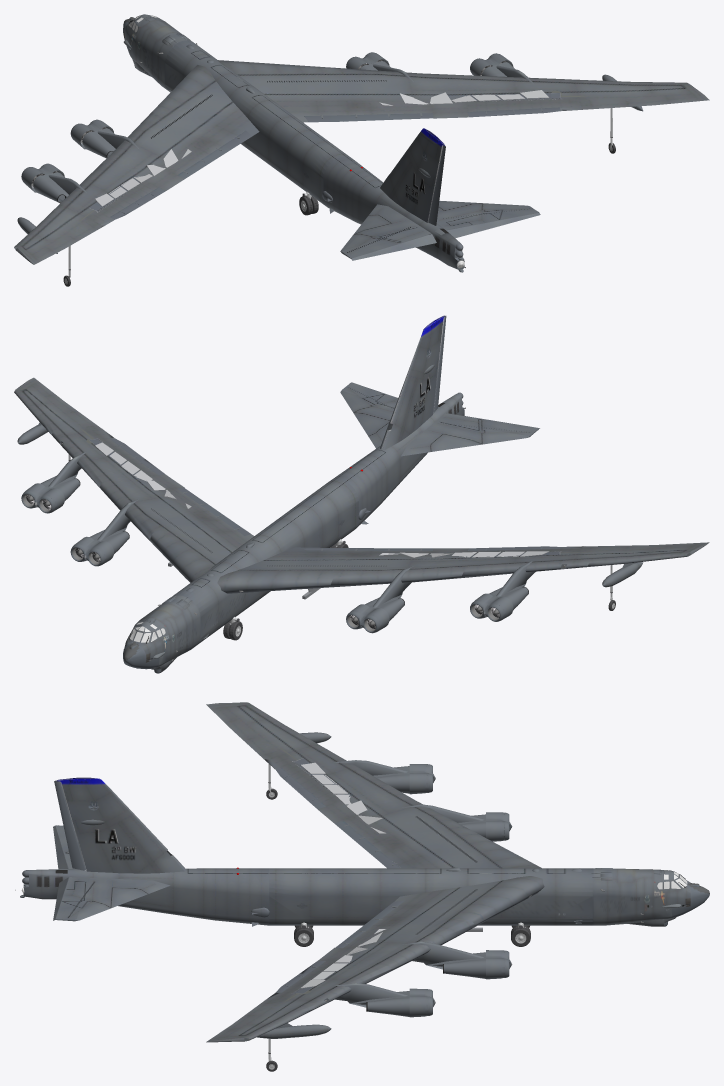
3 renders of one model, top to bottom at view 1: azimuth 30°, elevation 25°; view 2: azimuth 150°, elevation 25°; view 3: azimuth 270°, elevation 25°, orthographic. The views are drawn at different scales.
Visible parts, largest first — view 1: B52, wingroot_R, fuselage_R, wingroot_L, wing2_R, wing1_R, tail, wing1_L, wing2_L, cockpit, fuselage_F, wingtip_R (+16 smaller); view 2: B52, wingroot_L, cockpit, fuselage_R, wingroot_R, tail, fuselage_F, wing1_L, wing1_R, wing2_R, wing2_L, hstab_L (+15 smaller); view 3: fuselage_R, B52, tail, cockpit, fuselage_F, wingroot_R, wingroot_L, wing2_L, wing1_L, wing1_R, wing2_R, wingtip_R (+14 smaller).
Boxes of the visible parts, x1,y1,x2,y2 form: B52: (241,95,350,205); wingroot_R: (218,60,376,110); fuselage_R: (322,156,465,272); wingroot_L: (152,65,247,151); wing2_R: (465,75,618,115); wing1_R: (334,67,494,107); tail: (380,128,448,233); wing1_L: (101,112,195,190); wing2_L: (52,163,144,237); cockpit: (123,14,197,90); fuselage_F: (165,41,267,144); wingtip_R: (590,74,709,111); B52: (248,479,358,555); wingroot_L: (217,552,376,593); cockpit: (123,594,200,673); fuselage_R: (331,392,465,527); wingroot_R: (149,509,244,582); tail: (380,315,444,449); fuselage_F: (173,540,273,643); wing1_L: (331,553,485,587); wing1_R: (99,469,195,540); wing2_R: (52,415,144,487); wing2_L: (462,545,618,577); hstab_L: (401,421,528,456); fuselage_R: (15,867,269,926); B52: (269,868,439,925); tail: (55,777,186,873); cockpit: (592,868,709,926); fuselage_F: (439,867,592,925); wingroot_R: (381,876,544,928); wingroot_L: (380,828,541,868); wing2_L: (248,739,387,792); wing1_L: (325,784,469,837); wing1_R: (334,919,475,971); wing2_R: (248,965,392,1012); wingtip_R: (206,1006,331,1042).
Size of the model in its own units: 56.39 by 12.4 by 49.14.
33 materials, 12 textured.
